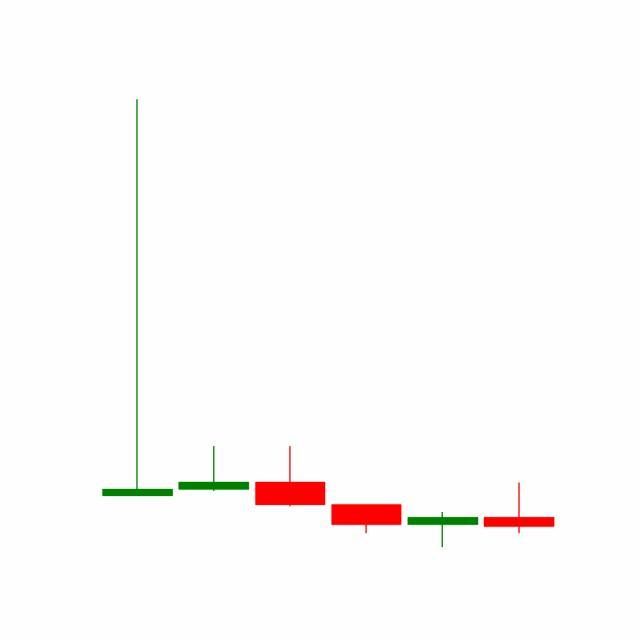Hammer: (404, 511, 482, 549)
